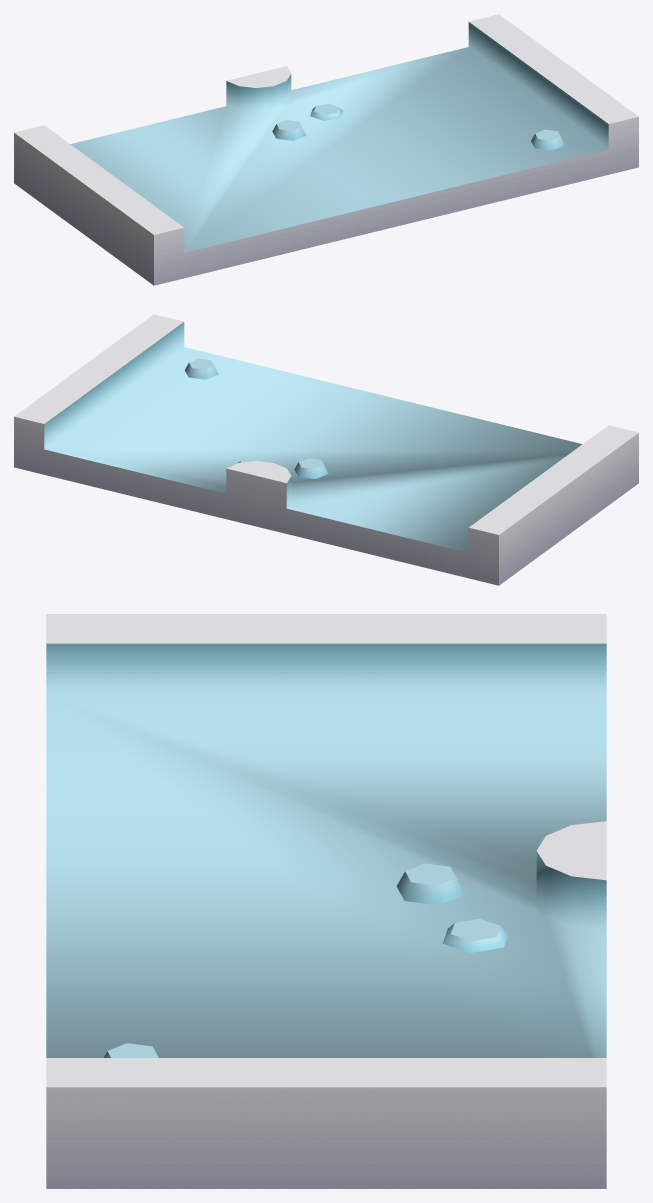
Rendered from tower-defense-kit--snow-tile-wide-split.glb.
The picture shows the model from 3 angles, top to bottom: view 1: azimuth 30°, elevation 25°; view 2: azimuth 150°, elevation 25°; view 3: azimuth 270°, elevation 25°; orthographic projection. The views are drawn at different scales.
Visible parts, largest first — view 1: snow-tile-wide-split; view 2: snow-tile-wide-split; view 3: snow-tile-wide-split.
Boxes of the visible parts, x1,y1,x2,y2 form: snow-tile-wide-split: (14, 14, 638, 285); snow-tile-wide-split: (14, 314, 638, 585); snow-tile-wide-split: (46, 614, 606, 1188).
Bounding box in the file's own units: 2 × 0.2 × 1.
1 material, 1 textured.
